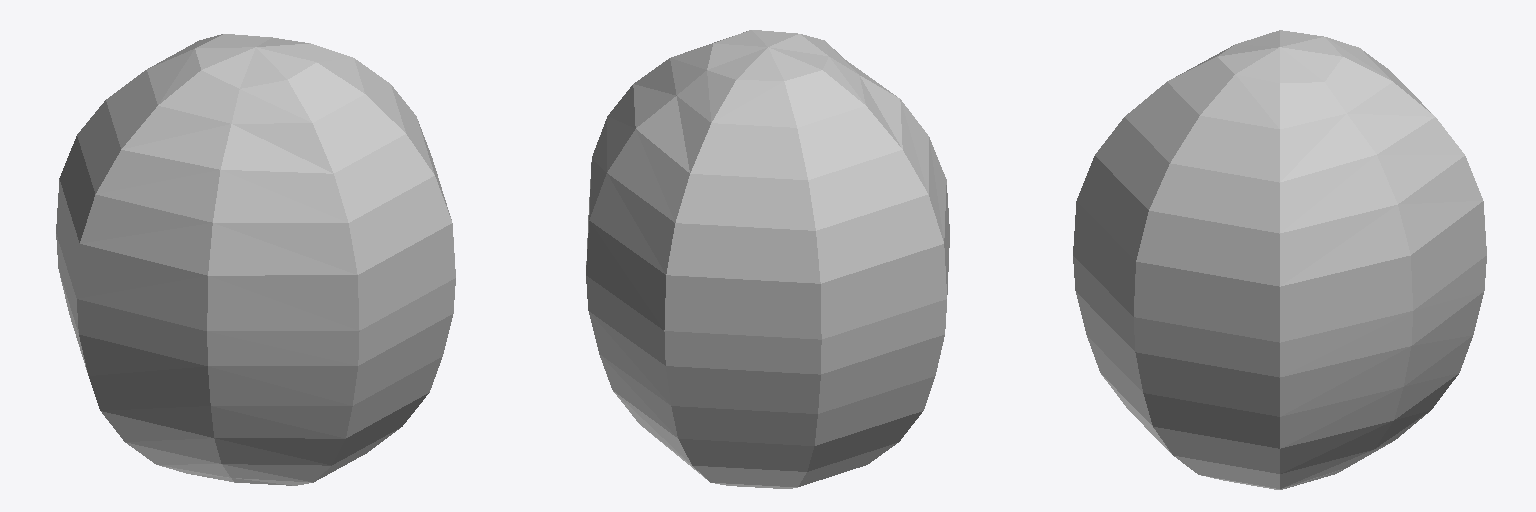
The model's file is Watermelon.obj.
3 views of the same model, side by side, from view 1: azimuth 30°, elevation 25°; view 2: azimuth 150°, elevation 25°; view 3: azimuth 270°, elevation 25° (orthographic).
Parts seen in each view (by area): view 1: Cube.008; view 2: Cube.008; view 3: Cube.008.
Boxes of the visible parts, x1=… form: Cube.008: x1=56, y1=34, x2=455, y2=485; Cube.008: x1=586, y1=30, x2=949, y2=488; Cube.008: x1=1073, y1=30, x2=1486, y2=489.
Size of the model in its own units: 0.3685 by 0.41 by 0.3685.